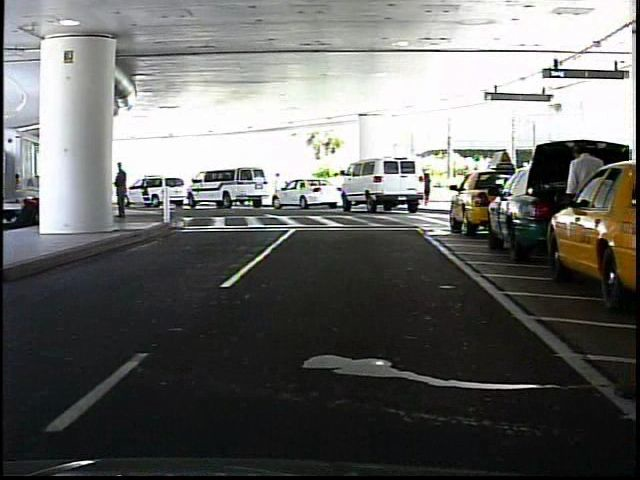person: (561, 131, 605, 272), (118, 158, 133, 225), (270, 170, 287, 205), (424, 170, 435, 206)
